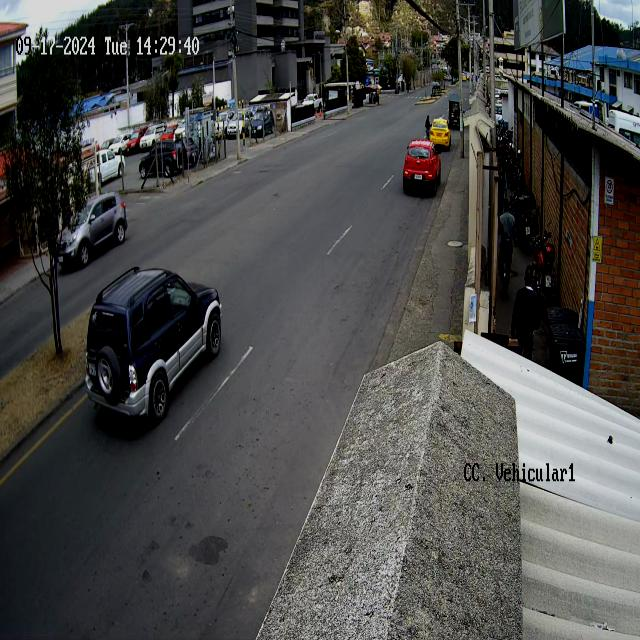SUV: (84, 265, 224, 424), (56, 189, 129, 270), (402, 138, 442, 198)
